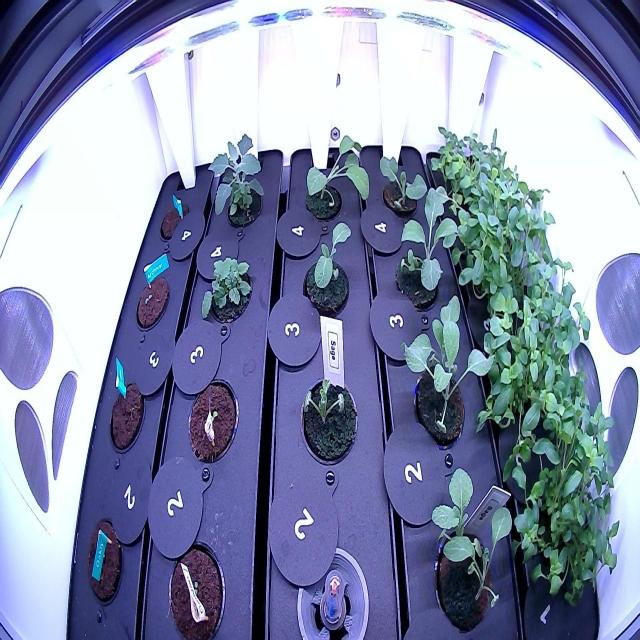germination: (167, 530, 230, 637), (180, 371, 240, 471), (134, 268, 172, 335)
pod: (82, 513, 127, 611), (105, 373, 147, 456), (158, 198, 192, 248)
